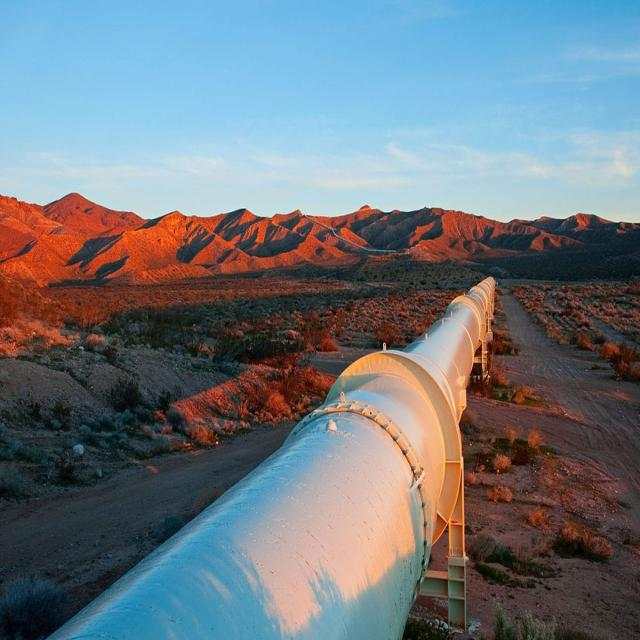gas: (54, 279, 494, 639)
